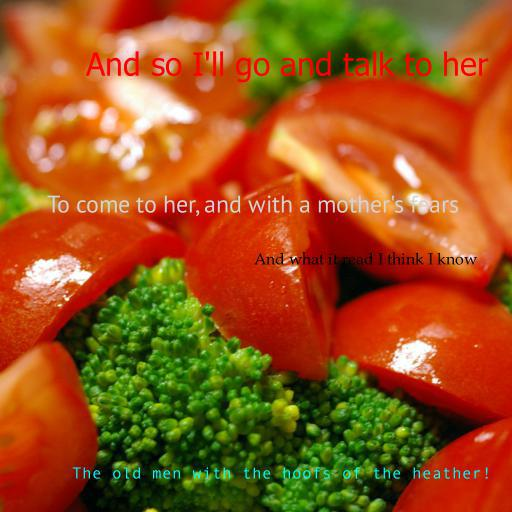Andale Mono: (72, 467, 492, 479)
PT Sans: (47, 195, 459, 217)
Palatino: (253, 251, 477, 265)
Tahoma: (85, 51, 489, 83)
